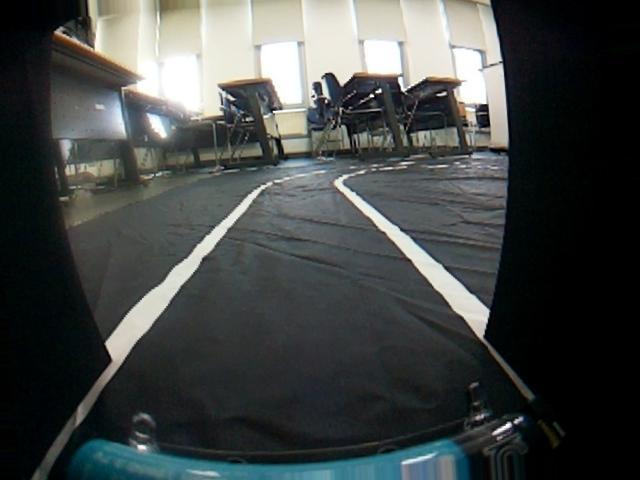straight: (5, 188, 636, 479)
